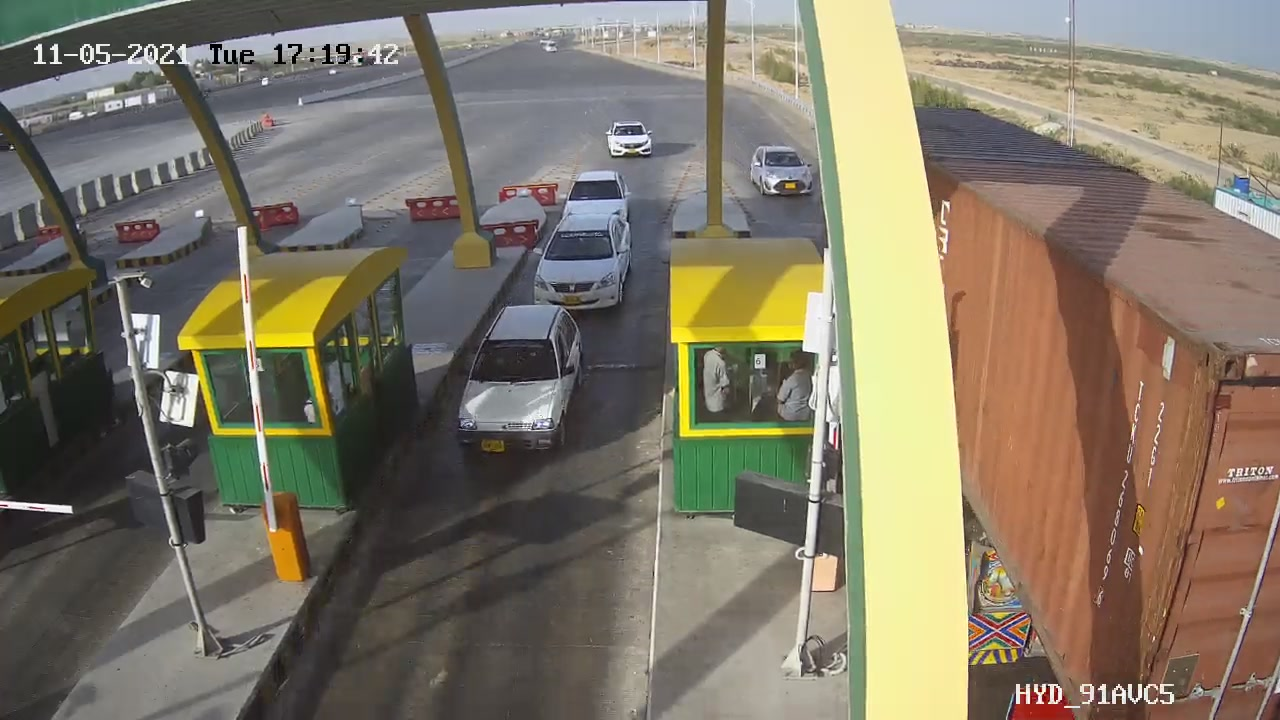F1: (440, 292, 603, 472), (520, 207, 651, 325)
